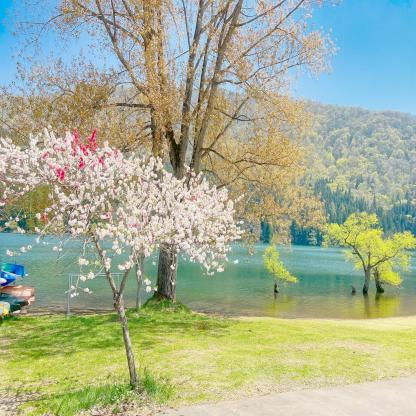Momo: (0, 126, 248, 301)
